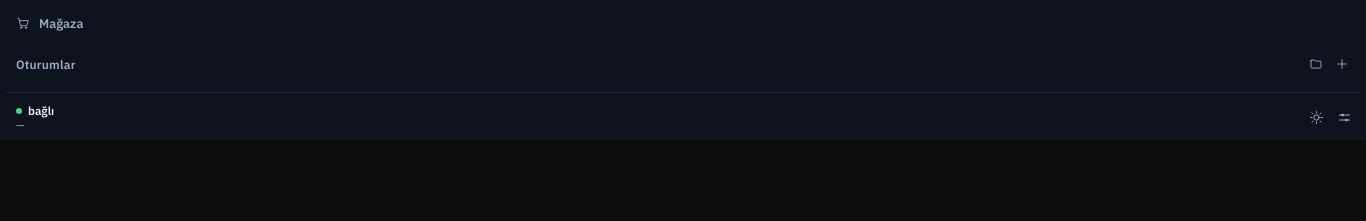
Test case: Office side list › a new Code session is opened in the mode picked from the + menu
Click the button titled "Yeni oturum". click: [1342, 64]
box: [1330,52,1354,76]
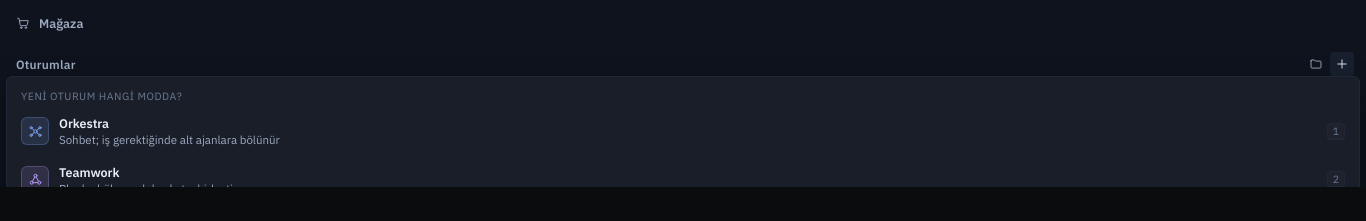
Click the menu item "Teamwork Planla, böl, paralel çalıştır, birleştir 2". click: [89, 172]
box: [13,156,1353,204]
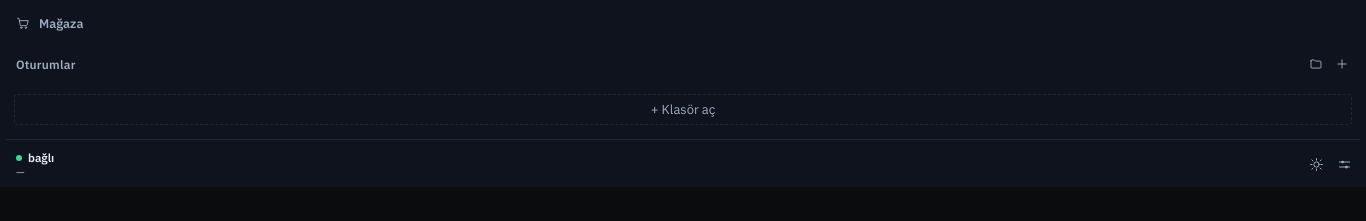
Expected: the text "Yeni oturum hangi modda?" is gone
